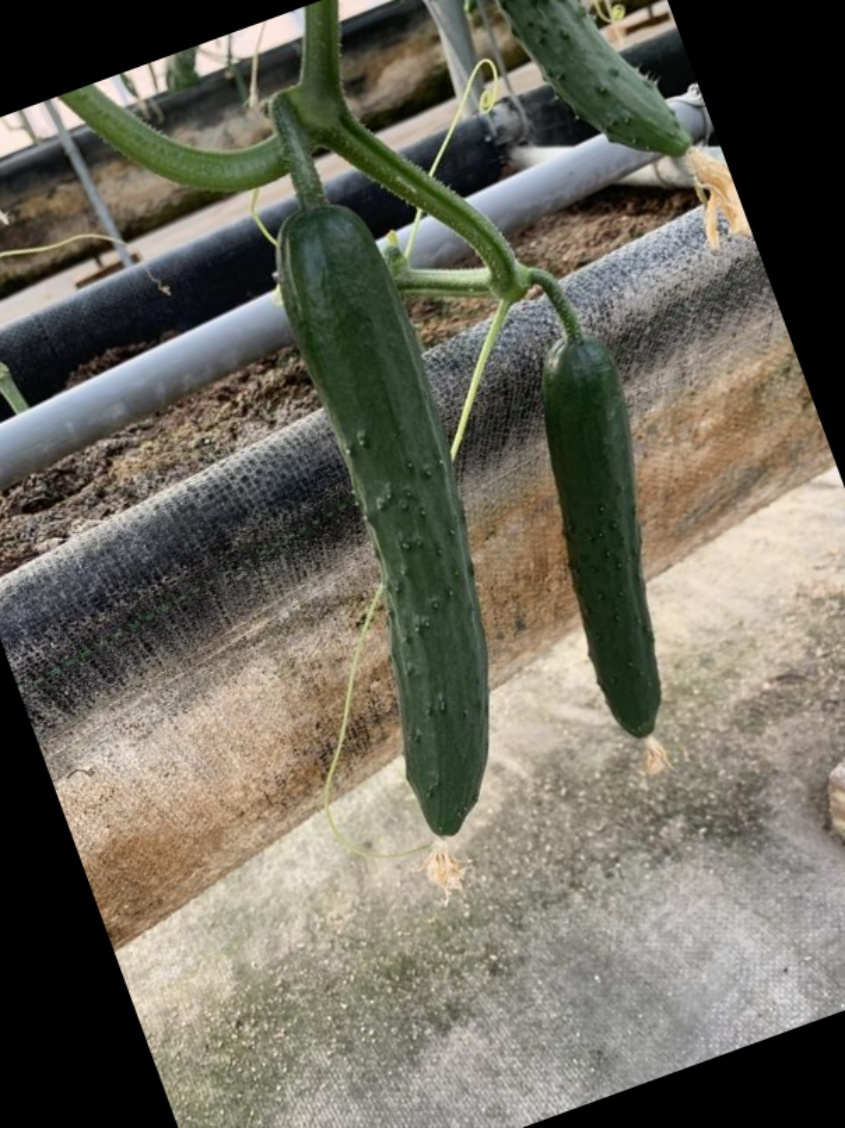mature: (540, 330, 668, 745)
